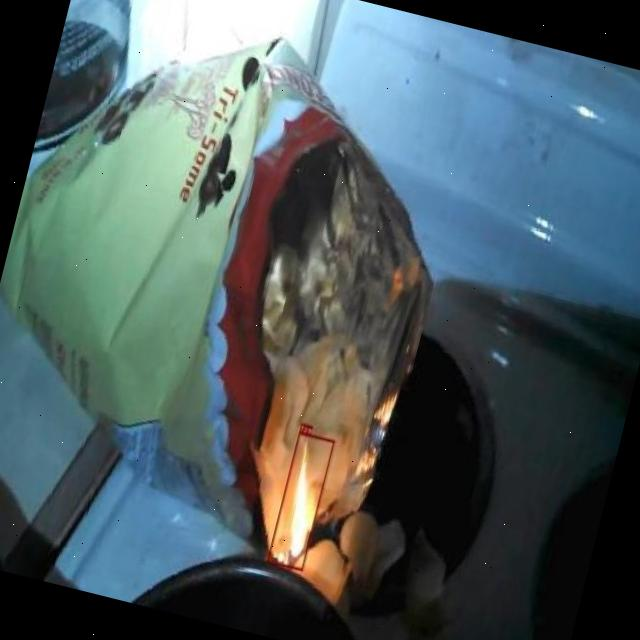fire: (266, 430, 334, 571)
